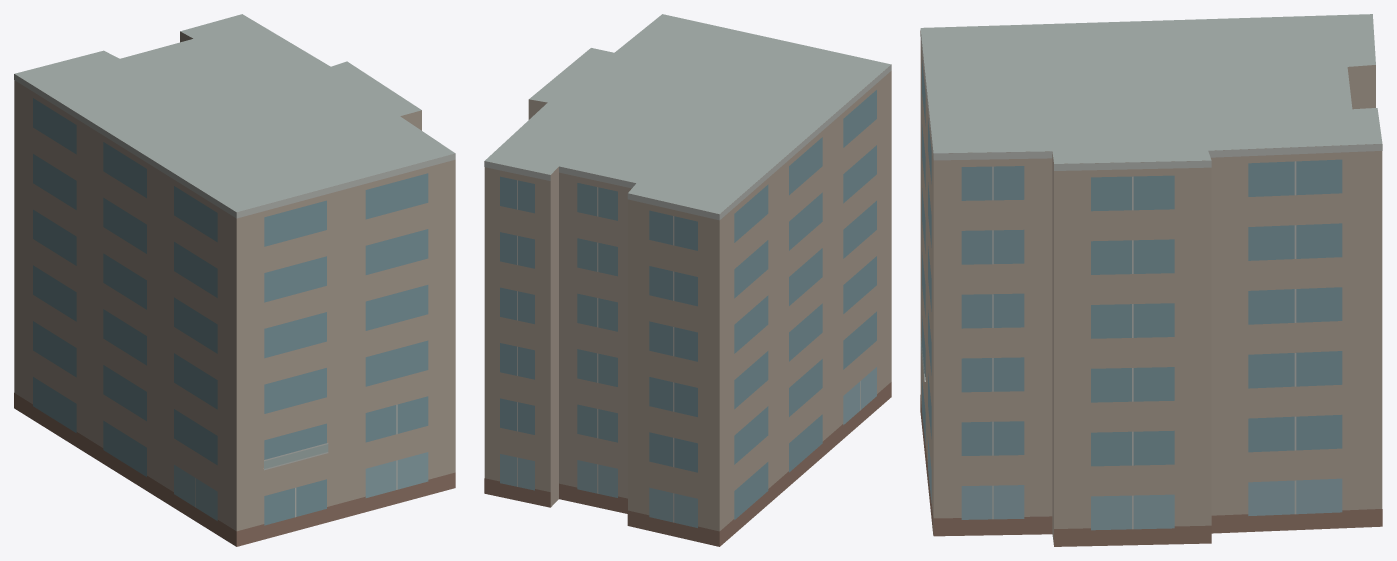
The model's file is survey-upis-32944152.glb.
The picture shows the model from 3 angles, left to right: view 1: azimuth 30°, elevation 25°; view 2: azimuth 150°, elevation 25°; view 3: azimuth 270°, elevation 25°; orthographic projection. The views are drawn at different scales.
Visible parts, largest first — view 1: survey-upis-32944152.tmp; view 2: survey-upis-32944152.tmp; view 3: survey-upis-32944152.tmp.
Boxes of the visible parts, x1,y1,x2,y2 form: survey-upis-32944152.tmp: (14,14,455,546); survey-upis-32944152.tmp: (484,14,891,546); survey-upis-32944152.tmp: (920,14,1382,546).
Size of the model in its own units: 11.1 by 13.2 by 14.45.
